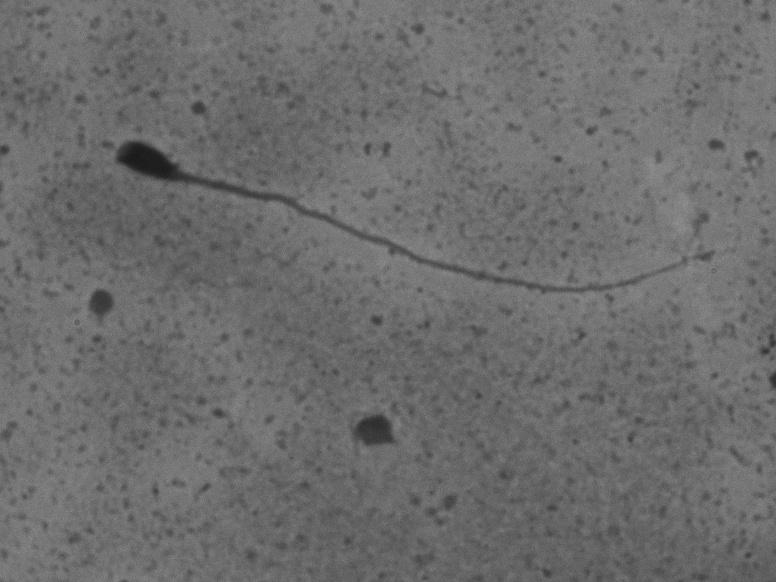Abnormal: (101, 108, 721, 317)
